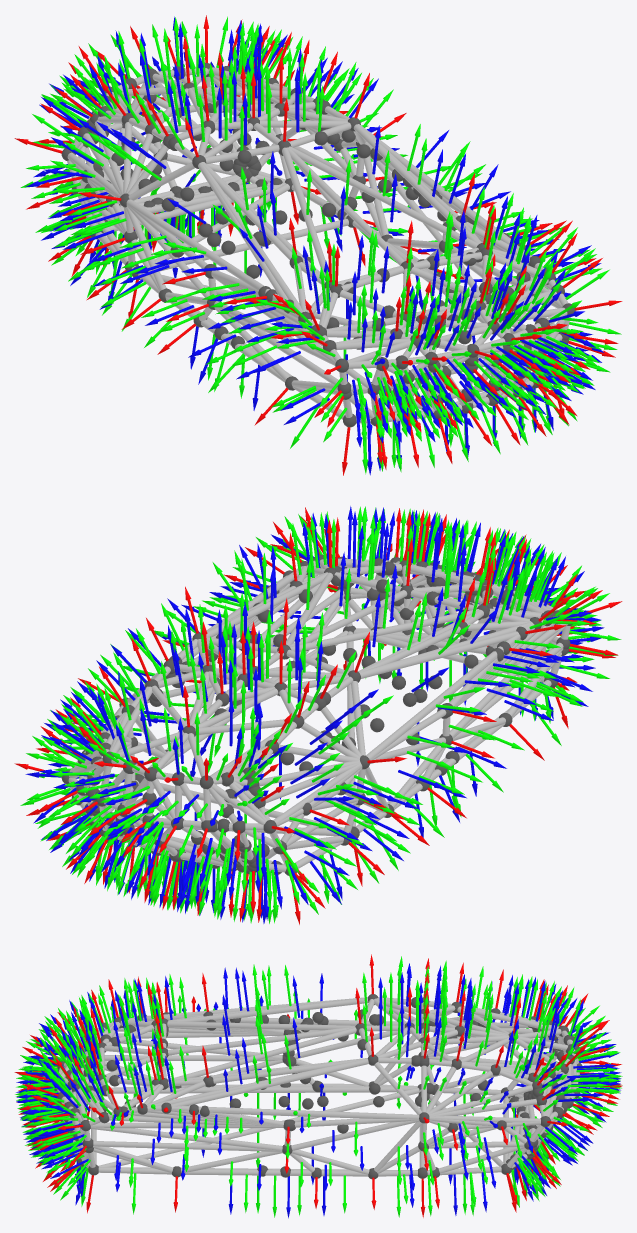
File: ils_car1.gltf
3 renders of one model, top to bottom at view 1: azimuth 30°, elevation 25°; view 2: azimuth 150°, elevation 25°; view 3: azimuth 270°, elevation 25°, orthographic. The views are drawn at different scales.
Size of the model in its own units: 0.541 by 0.3584 by 1.06.
